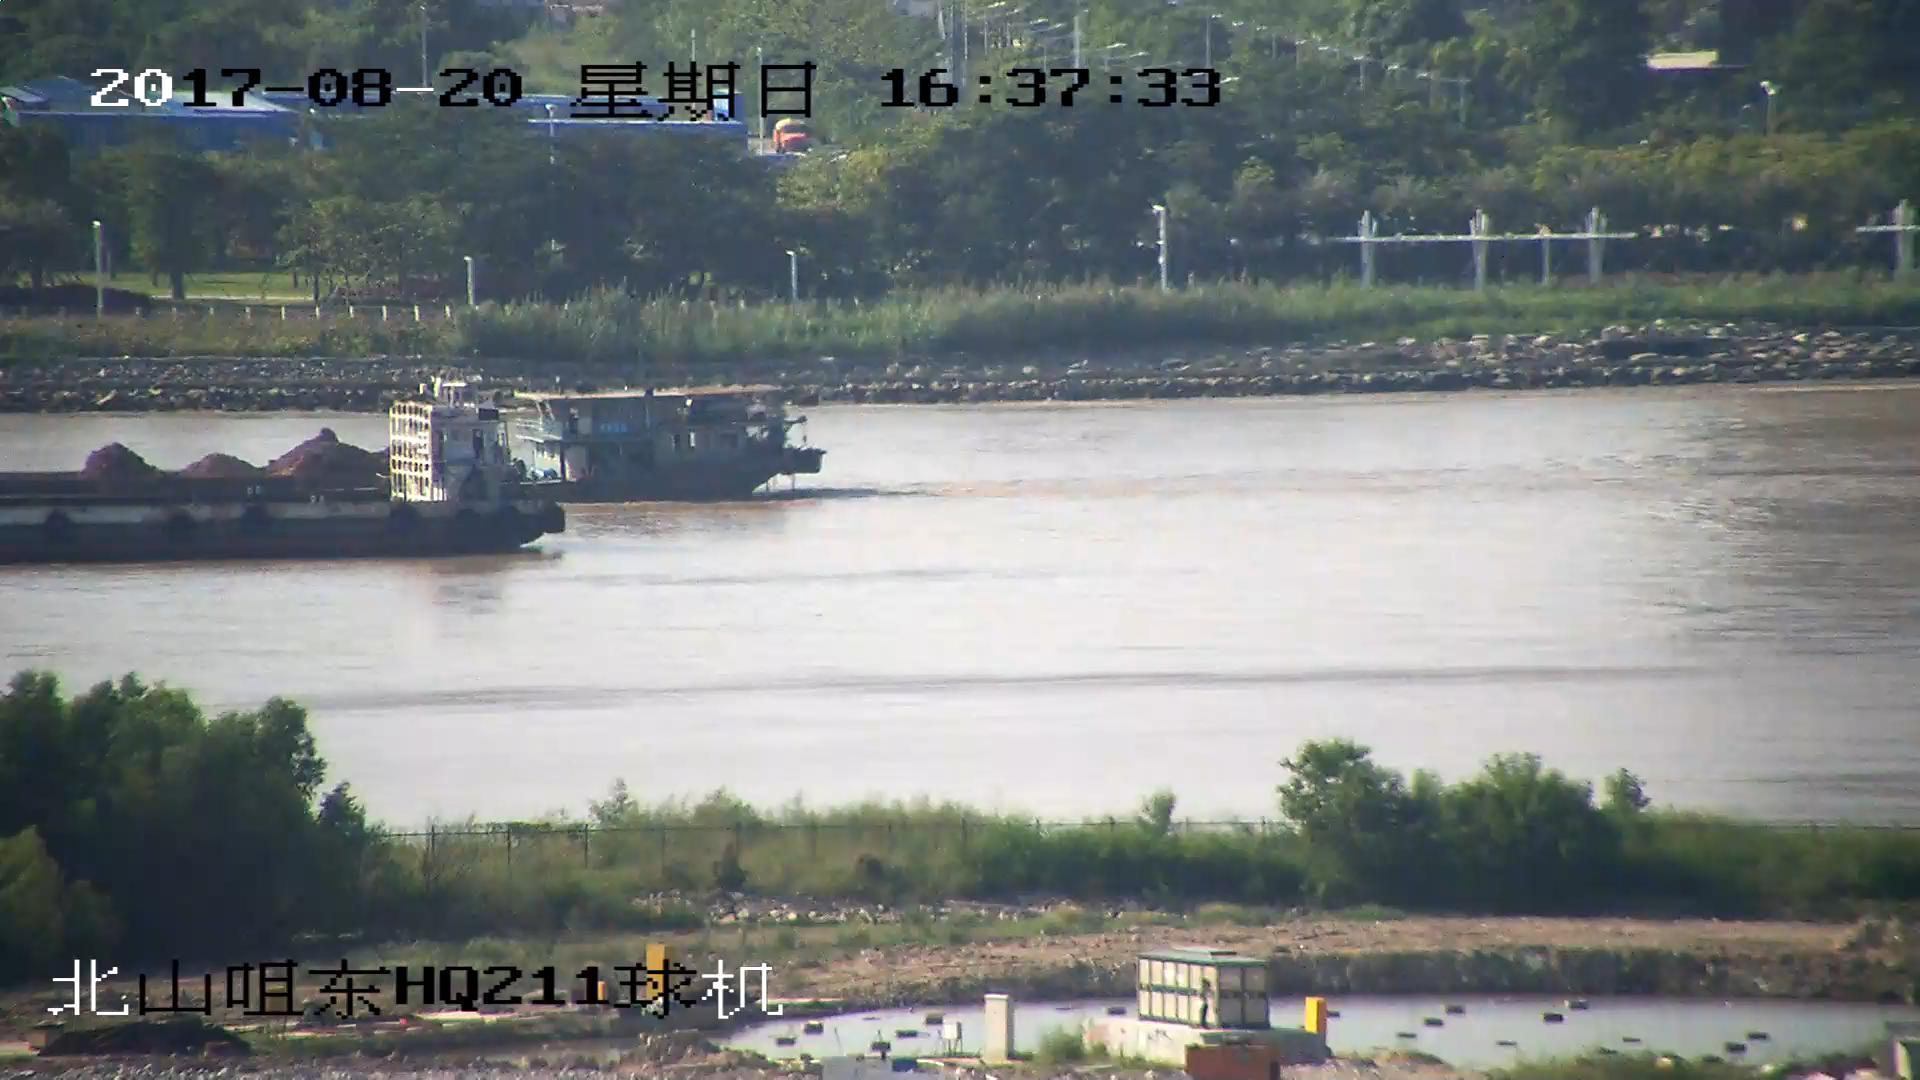Ship: (3, 390, 829, 513), (3, 394, 549, 560)
